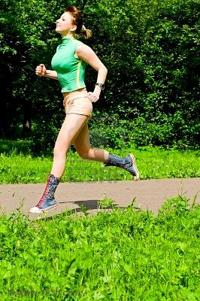person: (29, 10, 141, 215)
